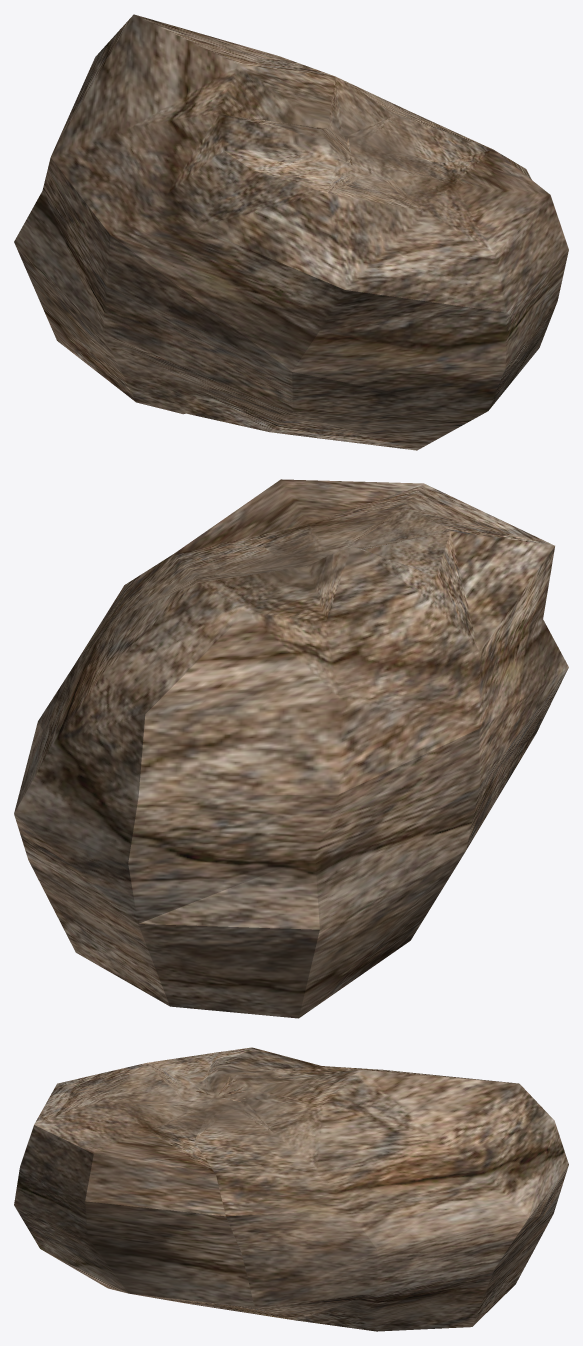
Rendered from RockSmallThin_LOD2.obj.
The picture shows the model from 3 angles, top to bottom: view 1: azimuth 30°, elevation 25°; view 2: azimuth 150°, elevation 25°; view 3: azimuth 270°, elevation 25°; orthographic projection. The views are drawn at different scales.
Visible parts, largest first — view 1: RockSmallThin_LOD2; view 2: RockSmallThin_LOD2; view 3: RockSmallThin_LOD2.
Boxes of the visible parts, <box> form: RockSmallThin_LOD2: <box>14,14,568,450</box>; RockSmallThin_LOD2: <box>14,479,568,1018</box>; RockSmallThin_LOD2: <box>14,1047,568,1331</box>.
Size of the model in its own units: 1.15 by 0.9161 by 1.89.
